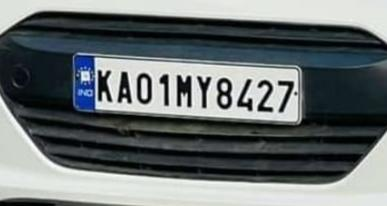0: (134, 70, 154, 107)
1: (156, 68, 174, 110)
2: (255, 77, 277, 114)
4: (236, 75, 255, 114)
7: (276, 73, 295, 115)
8: (216, 75, 236, 113)
A: (115, 65, 134, 107)
K: (95, 63, 116, 106)
M: (175, 69, 194, 111)
Y: (195, 72, 214, 112)
